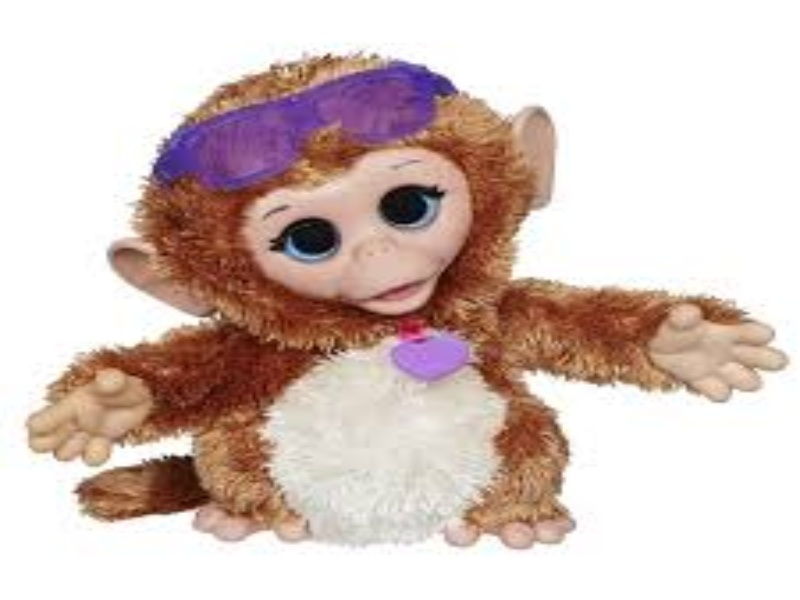monkey: (18, 48, 792, 559)
